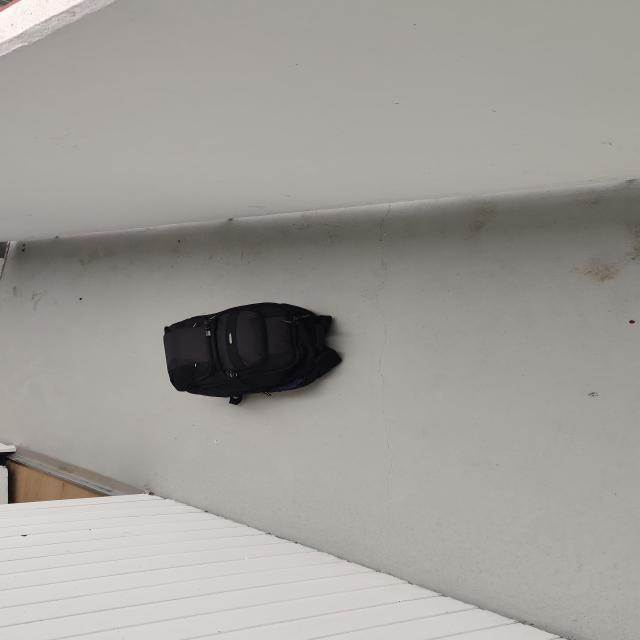backpack: (154, 298, 349, 399)
